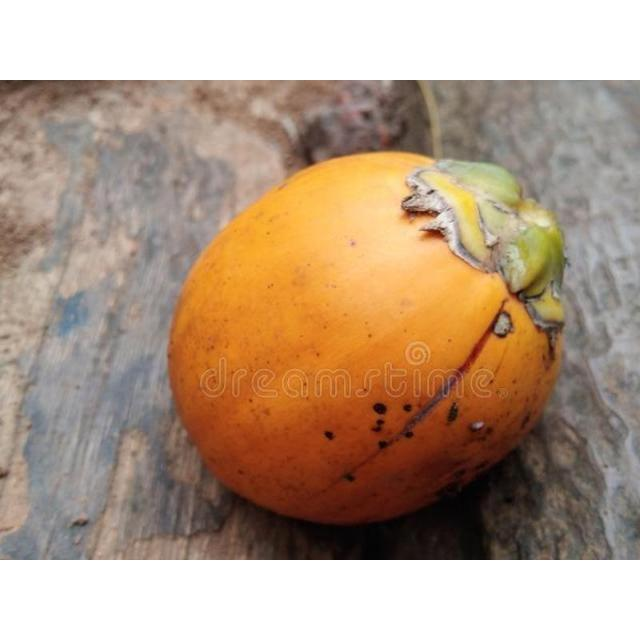good: (166, 150, 566, 529)
